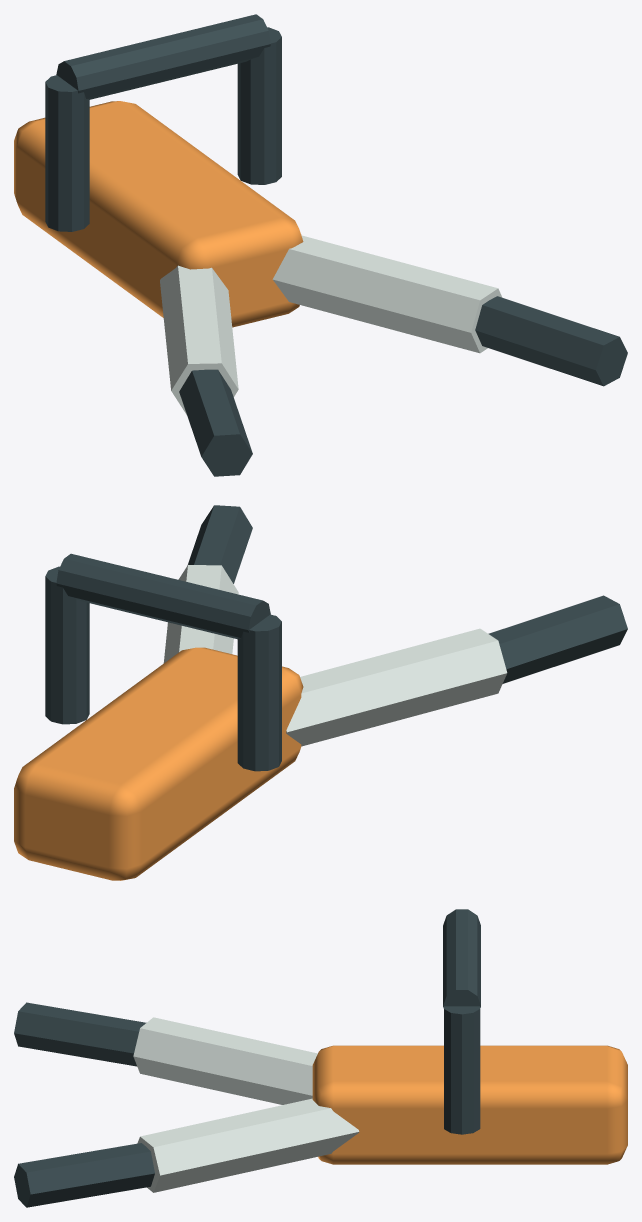
File: diving-and-underwater-salvage-hydraulic-spreader-38ded81b__28451.glb
The picture shows the model from 3 angles, top to bottom: view 1: azimuth 30°, elevation 25°; view 2: azimuth 150°, elevation 25°; view 3: azimuth 270°, elevation 25°; orthographic projection. The views are drawn at different scales.
Parts seen in each view (by area): view 1: hydraulic-spreader-dark, hydraulic-spreader-orange, hydraulic-spreader-pale; view 2: hydraulic-spreader-orange, hydraulic-spreader-dark, hydraulic-spreader-pale; view 3: hydraulic-spreader-orange, hydraulic-spreader-pale, hydraulic-spreader-dark.
Boxes of the visible parts, x1,y1,x2,y2 form: hydraulic-spreader-dark: [45, 14, 627, 476]; hydraulic-spreader-orange: [14, 101, 303, 327]; hydraulic-spreader-pale: [160, 235, 502, 414]; hydraulic-spreader-orange: [14, 647, 303, 880]; hydraulic-spreader-dark: [45, 505, 627, 771]; hydraulic-spreader-pale: [163, 565, 507, 746]; hydraulic-spreader-orange: [312, 1045, 627, 1164]; hydraulic-spreader-pale: [133, 1017, 359, 1192]; hydraulic-spreader-dark: [14, 909, 480, 1207].
Bounding box in the file's own units: 0.5102 × 0.2619 × 0.74.
